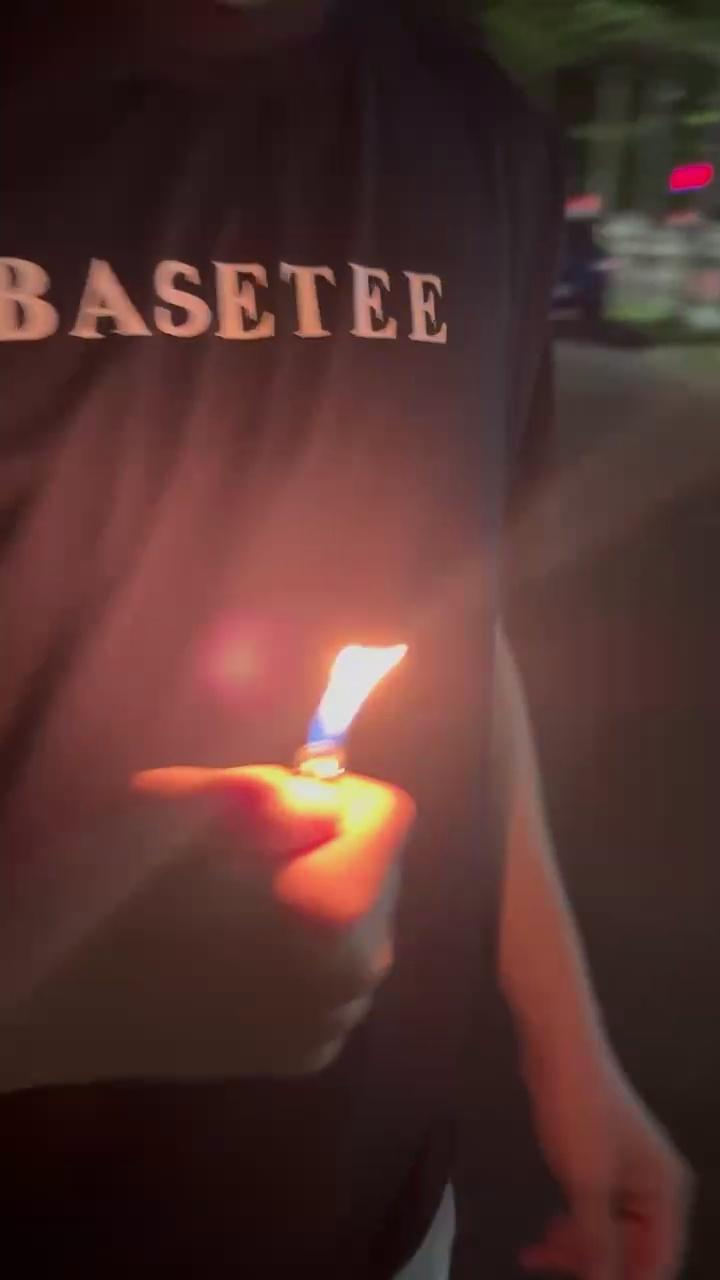Fire: (322, 610, 405, 788)
